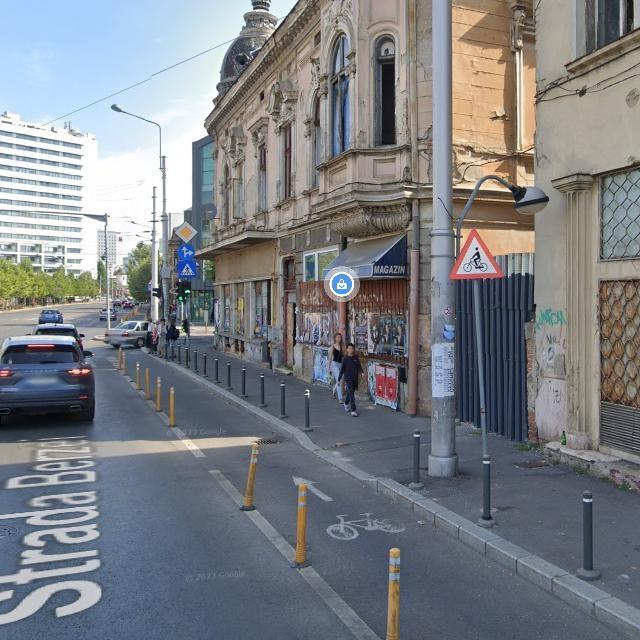info_crosswalk: (179, 261, 197, 279)
